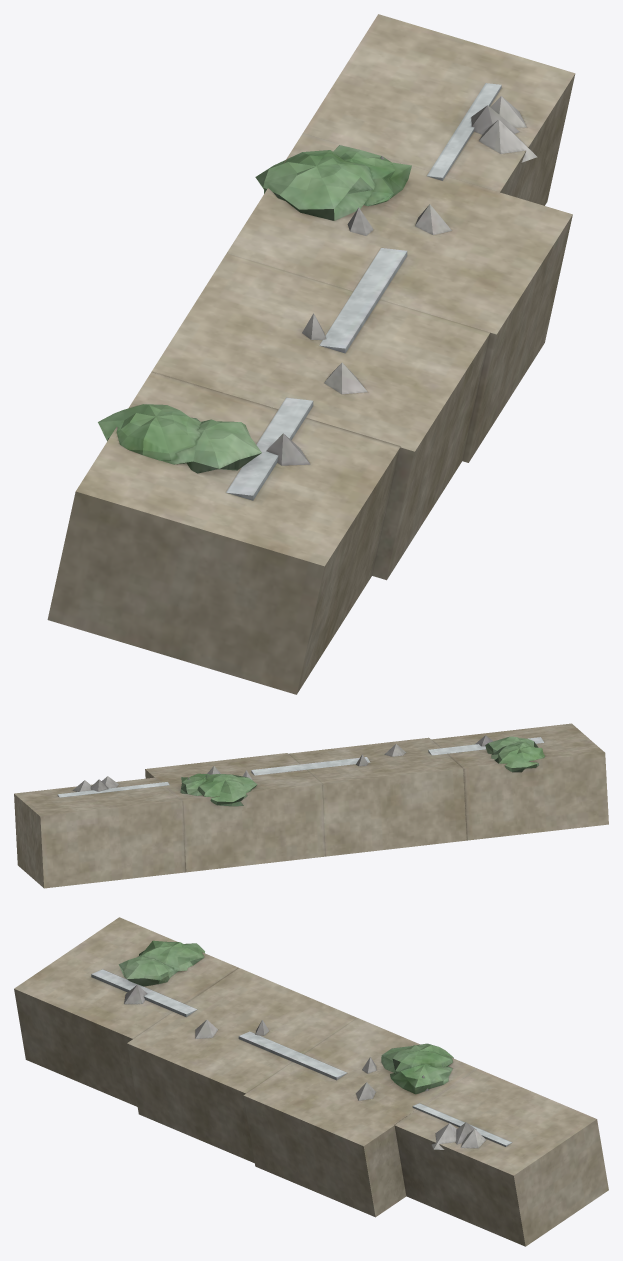
File: river_bank.glb
3 views of the same model, one above another, from view 1: azimuth 30°, elevation 25°; view 2: azimuth 150°, elevation 25°; view 3: azimuth 270°, elevation 25° (orthographic). The views are drawn at different scales.
Parts seen in each view (by area): view 1: dilek; view 2: dilek; view 3: dilek.
Part boxes in pixels (x1=…): dilek: x1=47, y1=14, x2=575, y2=694; dilek: x1=14, y1=723, x2=608, y2=888; dilek: x1=14, y1=917, x2=608, y2=1246.
Bounding box in the file's own units: 1.47 × 0.3223 × 1.53.
1 material, 1 textured.
